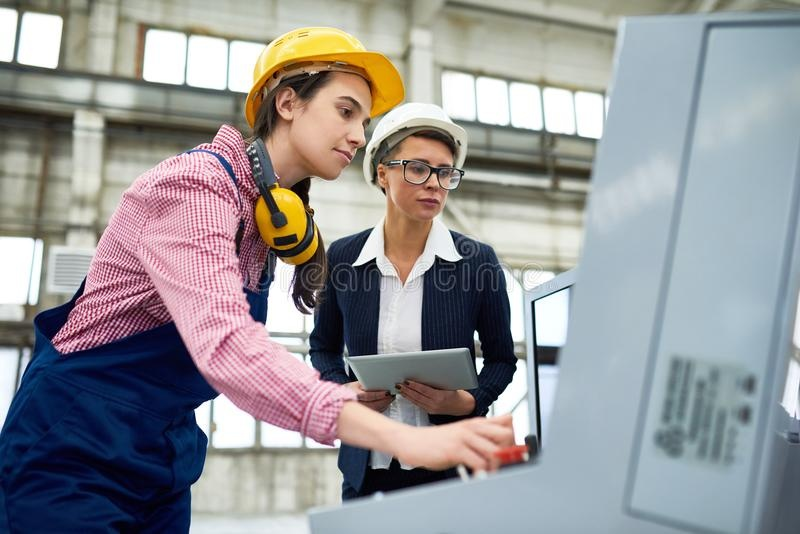white: (359, 98, 470, 226)
yellow: (243, 23, 375, 180)
